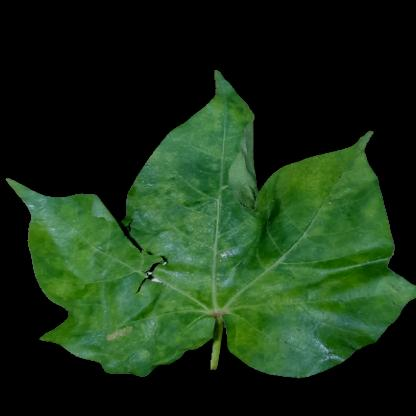curl_stage1: (223, 278, 311, 353), (145, 159, 213, 249), (65, 271, 141, 336), (35, 218, 119, 268), (146, 278, 218, 336), (284, 165, 364, 209), (310, 274, 388, 314), (315, 249, 385, 293), (299, 210, 358, 254), (199, 98, 247, 138)
healthy: (226, 218, 286, 259)
